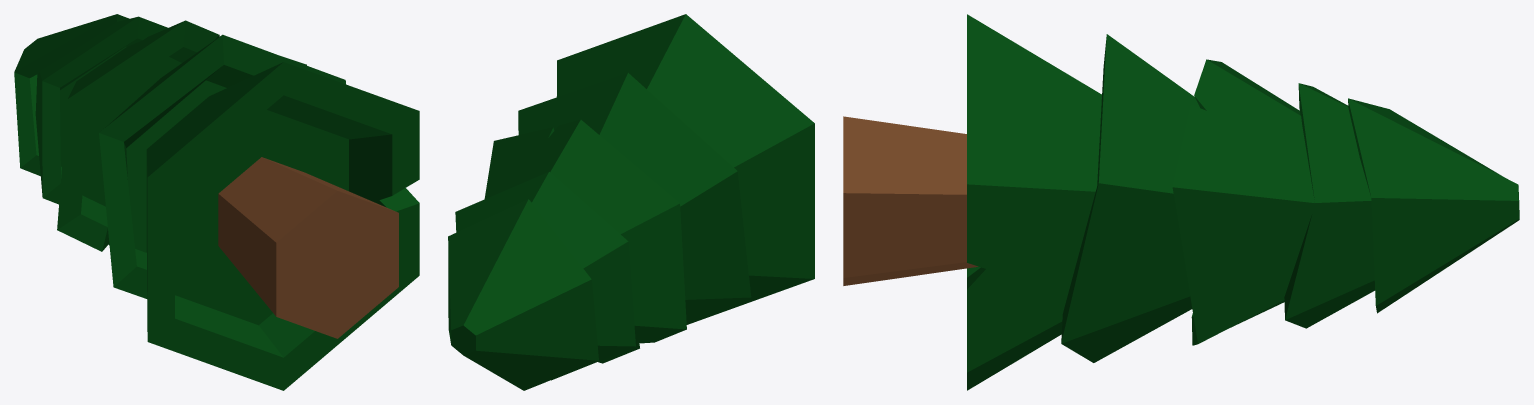
The model's file is tree2-1.fbx.
The picture shows the model from 3 angles, left to right: view 1: azimuth 30°, elevation 25°; view 2: azimuth 150°, elevation 25°; view 3: azimuth 270°, elevation 25°; orthographic projection. The views are drawn at different scales.
Parts seen in each view (by area): view 1: Cylinder; view 2: Cylinder; view 3: Cylinder.
Boxes of the visible parts, x1=… form: Cylinder: x1=14, y1=14, x2=419, y2=390; Cylinder: x1=448, y1=14, x2=814, y2=390; Cylinder: x1=843, y1=14, x2=1519, y2=390.
Bounding box in the file's own units: 86.7 × 100 × 163.
